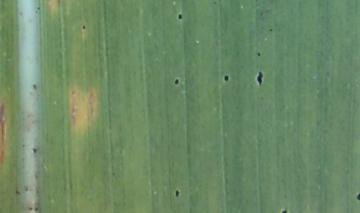tarspot: (255, 68, 264, 84), (172, 76, 182, 88), (223, 71, 231, 83), (279, 207, 291, 213), (176, 11, 184, 20), (175, 188, 181, 198), (255, 52, 264, 58), (81, 22, 87, 31), (355, 191, 359, 203), (268, 27, 276, 33)
